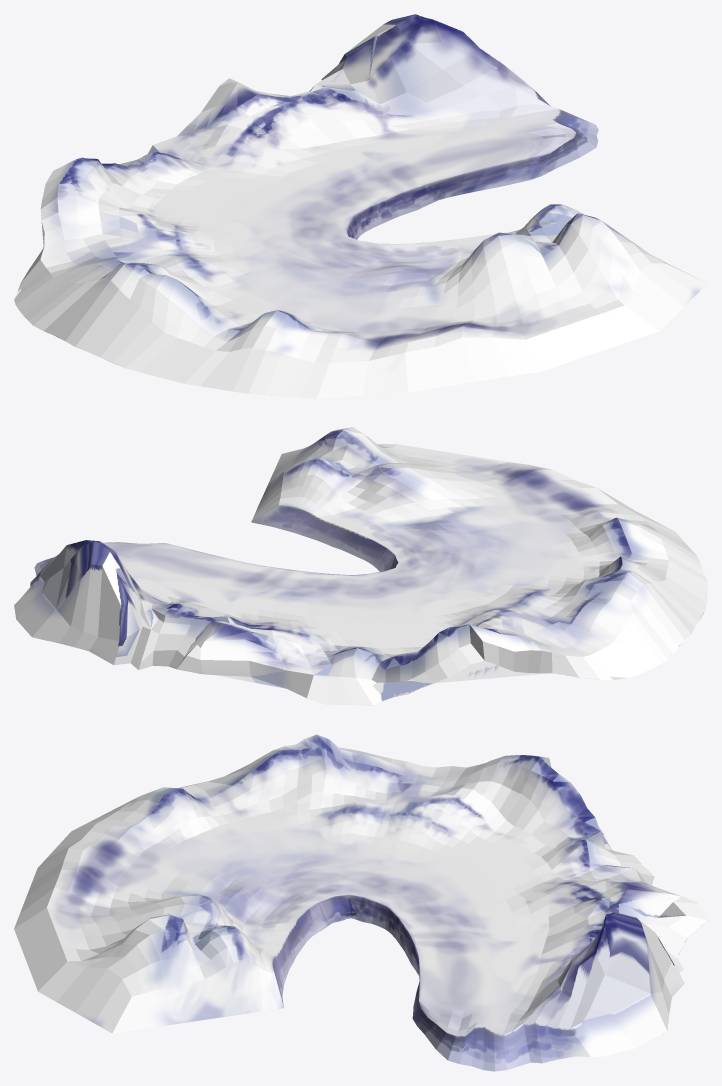
Rendered from mountain2.gltf.
3 views of the same model, one above another, from view 1: azimuth 30°, elevation 25°; view 2: azimuth 150°, elevation 25°; view 3: azimuth 270°, elevation 25° (orthographic). The views are drawn at different scales.
Visible parts, largest first — view 1: Circle; view 2: Circle; view 3: Circle.
Boxes of the visible parts, bbox=[...] form: Circle: bbox=[14, 14, 707, 398]; Circle: bbox=[14, 427, 707, 705]; Circle: bbox=[14, 734, 707, 1071].
Bounding box in the file's own units: 10.24 × 1.53 × 9.74.
1 material, 1 textured.
